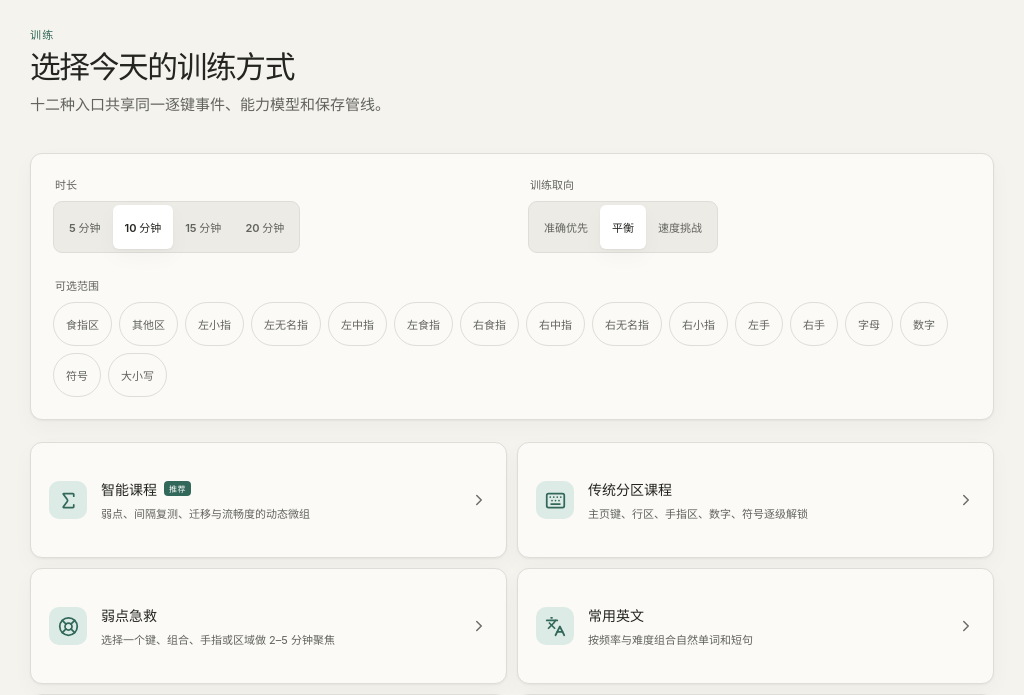
it: TrainPage progress-backed modes › falls back to only the first stage when progress cannot be read
Click the button "传统分区课程 主页键、行区、手指区、数字、符号逐级解锁" at (555, 500), box [517,442,994,558]
(page scrolled)
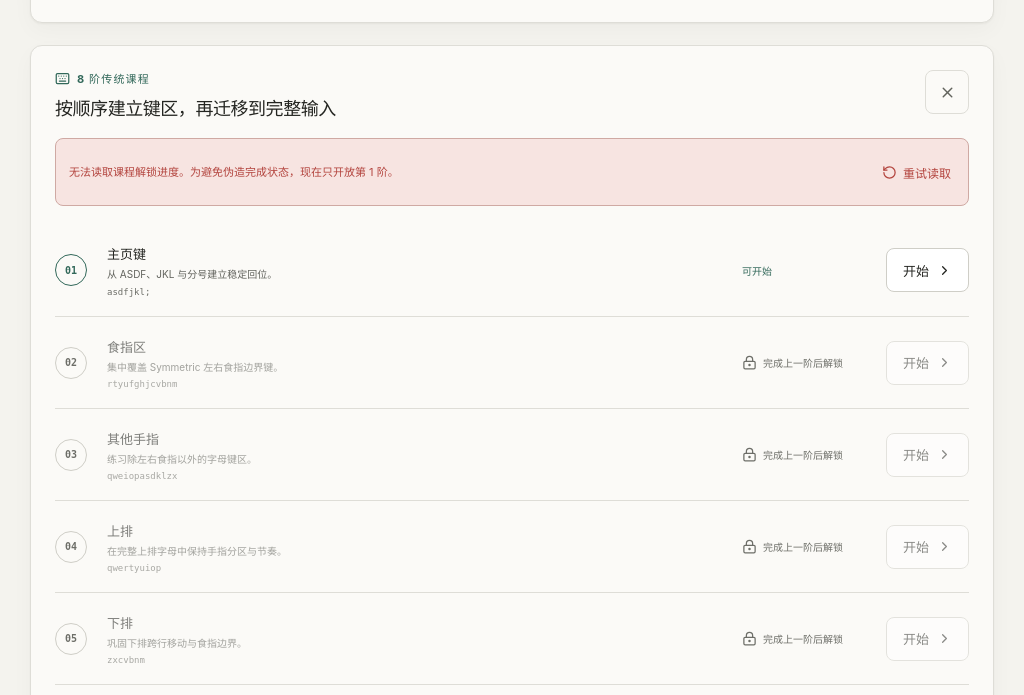
Result: the text "无法读取课程解锁进度。为避免伪造完成状态，现在只开放第 1 阶。" is shown at [69,164,399,181]
Result: the button "开始" in the row of "01" is enabled at [886,248,969,292]
Result: the button "开始" in the row of "02" is disabled at [886,341,969,385]
